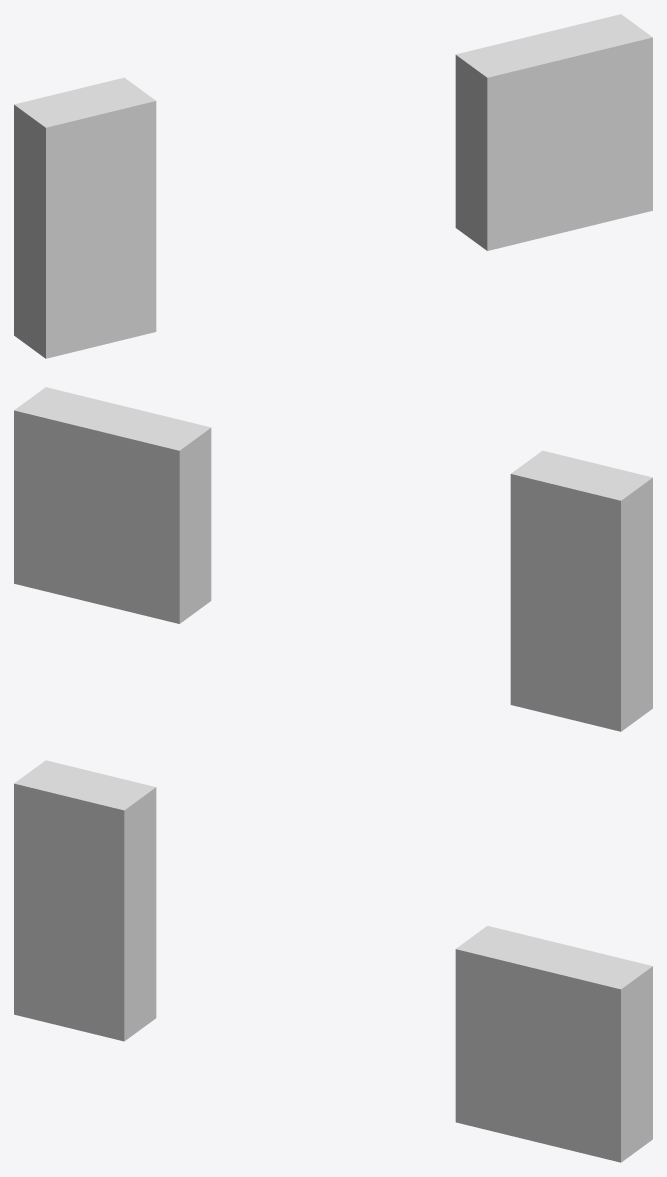
Rendered from bear-1.obj.
The picture shows the model from 3 angles, top to bottom: view 1: azimuth 30°, elevation 25°; view 2: azimuth 150°, elevation 25°; view 3: azimuth 330°, elevation 25°; orthographic projection.
Bounding box in the file's own units: 1.1 × 0.4 × 0.1.
1 material, 1 textured.
